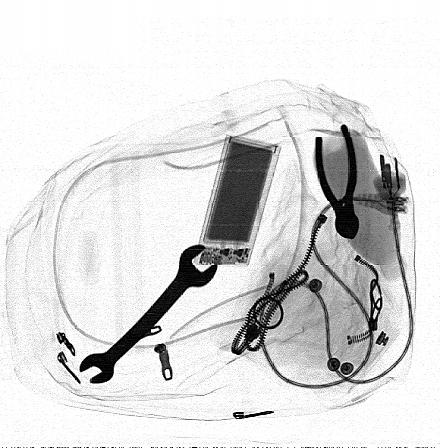Pliers: (313, 123, 361, 239)
Powerbank: (193, 134, 283, 267)
Wrench: (80, 245, 218, 383)
